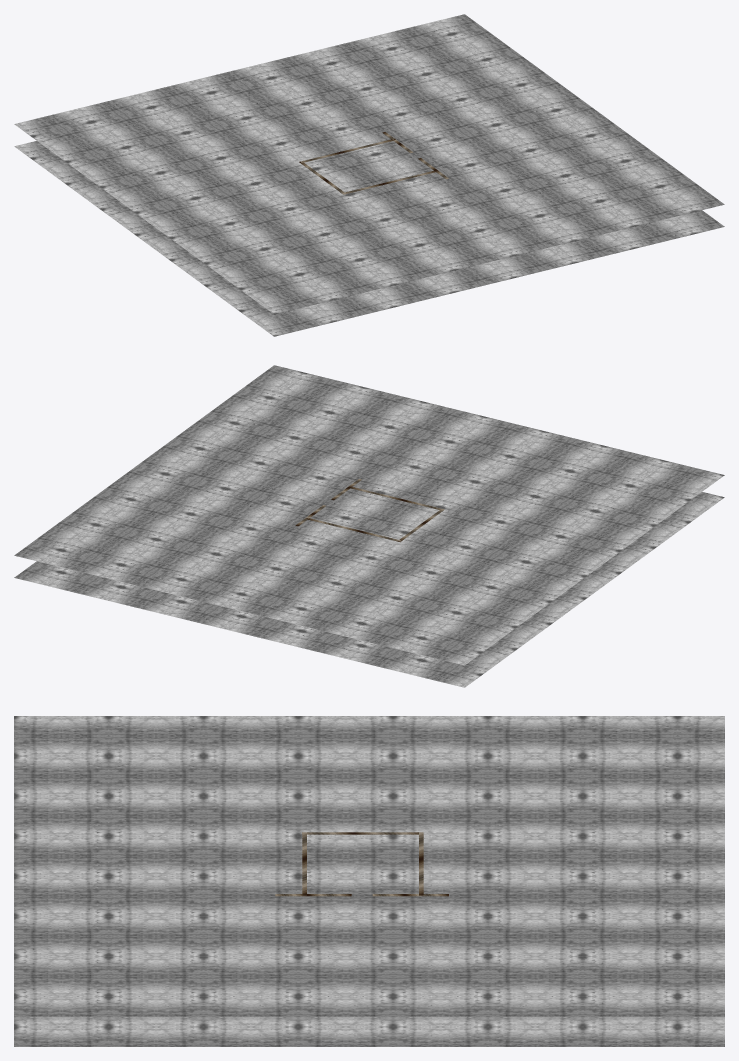
3 views of the same model, one above another, from view 1: azimuth 30°, elevation 25°; view 2: azimuth 150°, elevation 25°; view 3: azimuth 270°, elevation 25° (orthographic). The views are drawn at different scales.
Parts seen in each view (by area): view 1: Ceiling, Floor; view 2: Ceiling, Floor; view 3: Ceiling, Floor.
Part boxes in pixels (x1,y1,x2,y2): Ceiling: (14,14,724,314); Floor: (14,141,724,336); Ceiling: (14,365,724,665); Floor: (14,492,724,687); Ceiling: (14,716,724,1016); Floor: (14,1016,724,1046).
Size of the model in its own units: 94.43 by 4.6 by 94.43.
Materials: 4 (4 with a texture image).
